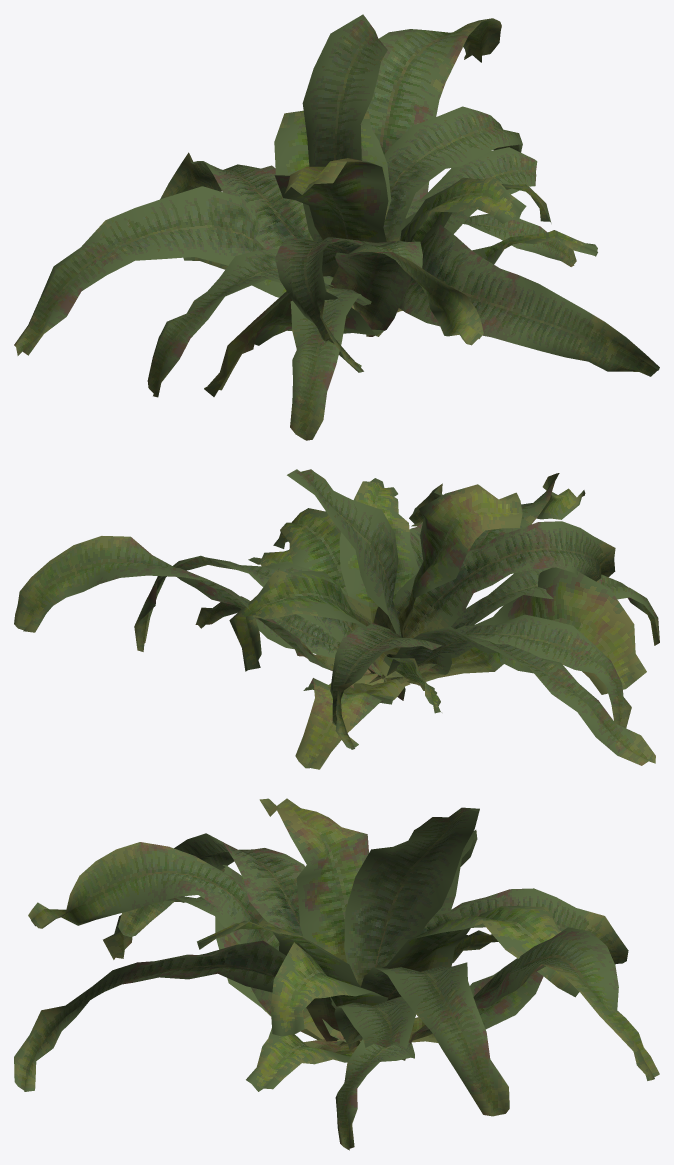
File: grounded-fern-quiet.glb
The picture shows the model from 3 angles, top to bottom: view 1: azimuth 30°, elevation 25°; view 2: azimuth 150°, elevation 25°; view 3: azimuth 270°, elevation 25°; orthographic projection. The views are drawn at different scales.
Visible parts, largest first — view 1: grounded-fern-quiet runtime mesh; view 2: grounded-fern-quiet runtime mesh; view 3: grounded-fern-quiet runtime mesh.
Boxes of the visible parts, box(x1,y1,x2,y2) form: grounded-fern-quiet runtime mesh: box(14, 14, 659, 440); grounded-fern-quiet runtime mesh: box(14, 469, 659, 769); grounded-fern-quiet runtime mesh: box(14, 798, 659, 1150).
Bounding box in the file's own units: 1.1 × 0.4753 × 0.9932.
Materials: 1 (1 with a texture image).
